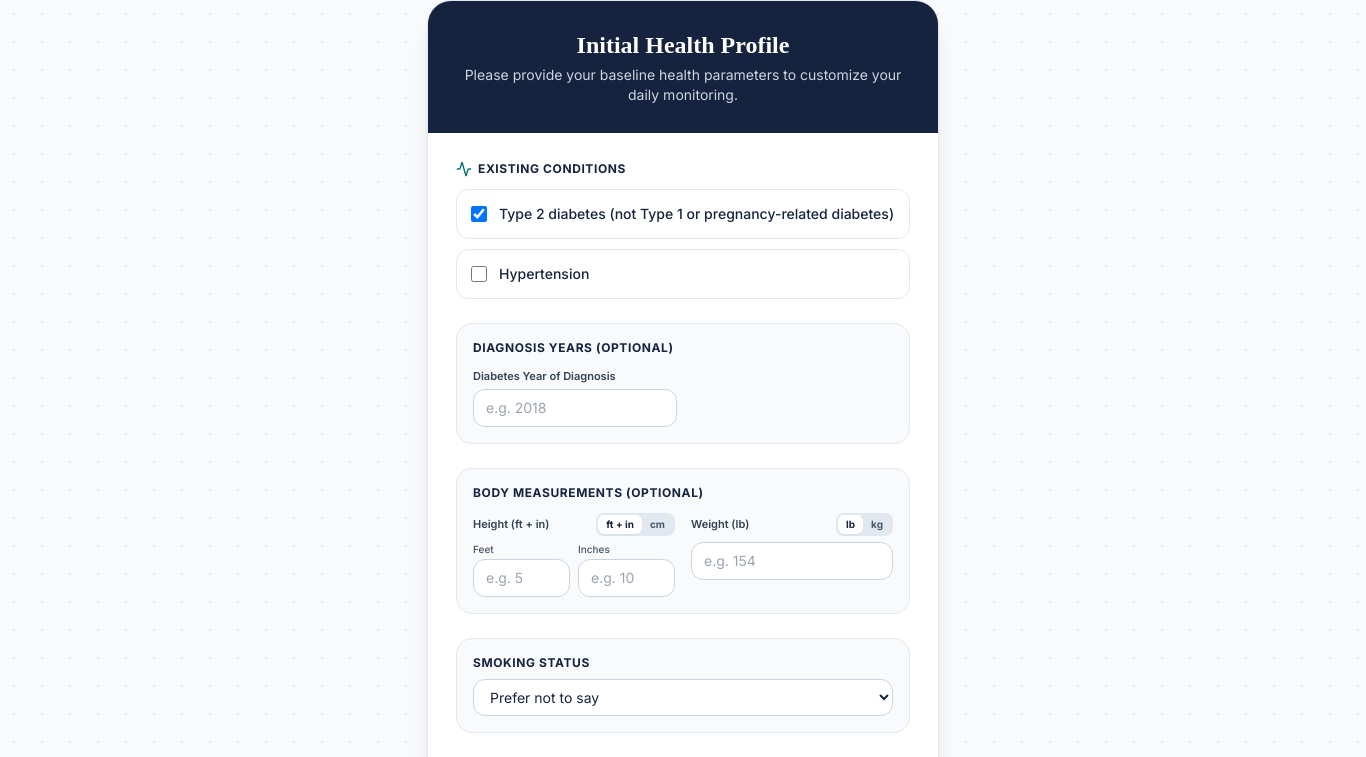
it: Health Profile Unit Conversions & Toggles (Task 1) › Component Rendering & Interactions › toggling cm to ft+in and back keeps the same height (within rounding)
// Switch to cm
Click the radio button labelled "cm" at (658, 524), box [642,514,673,534]
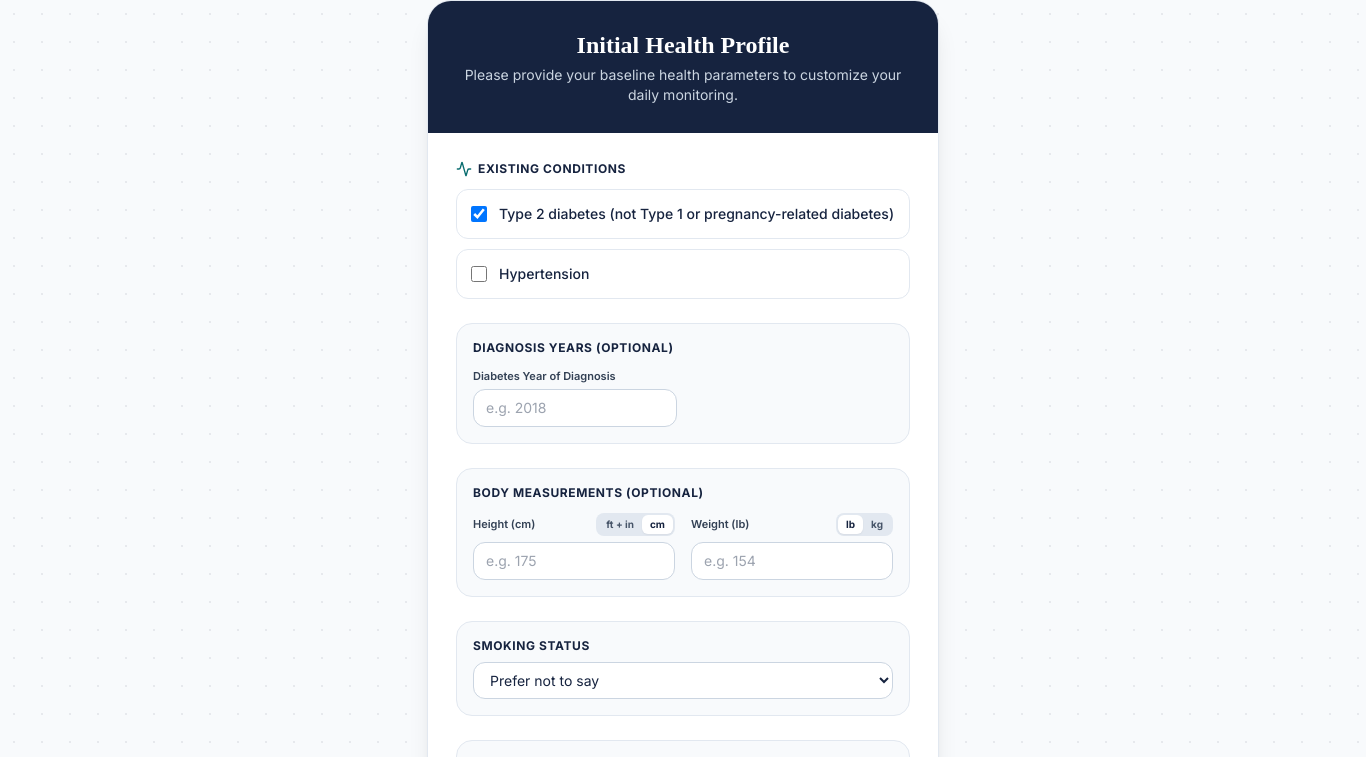
Type "177.8" into the number field labelled "Height (cm)" at (574, 560), box [473,542,675,580]
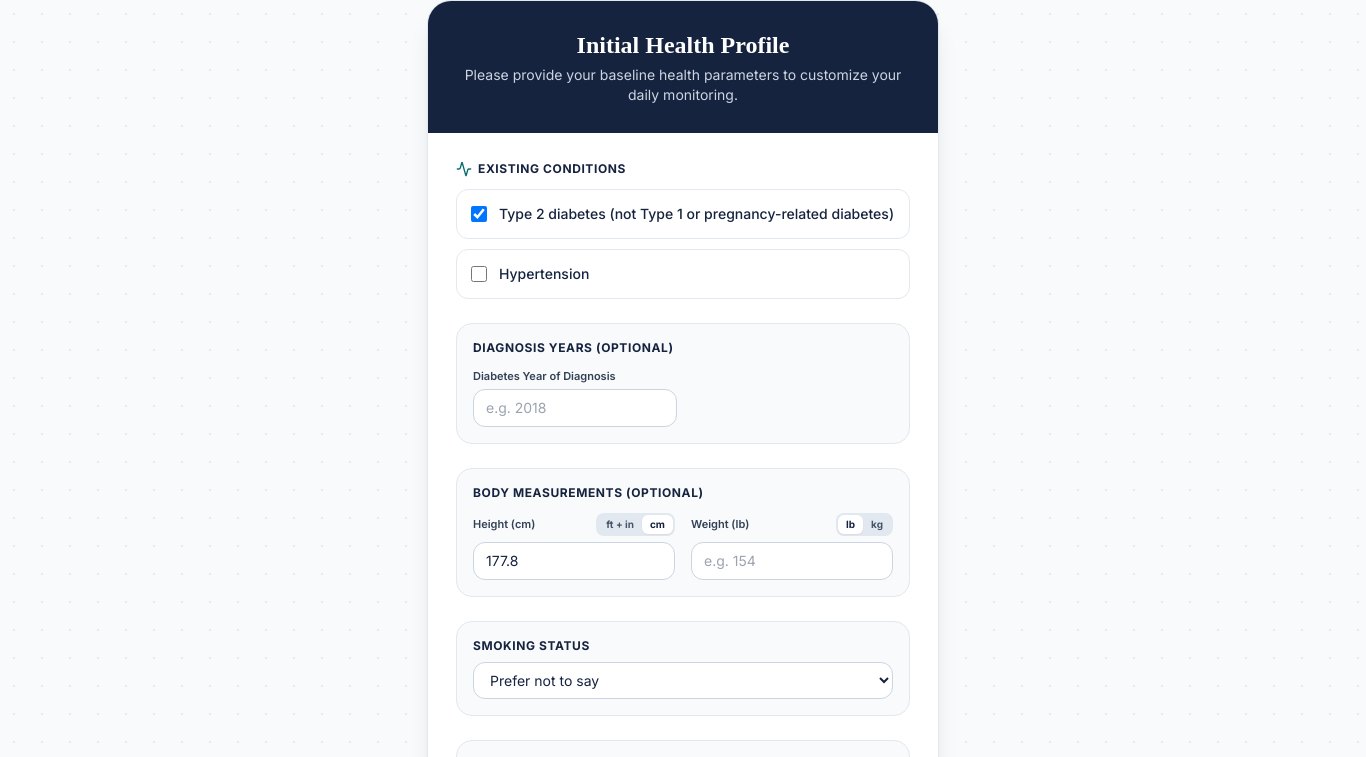
// Toggle to ft+in
Click the radio button labelled "ft + in" at (620, 524), box [598,514,642,534]
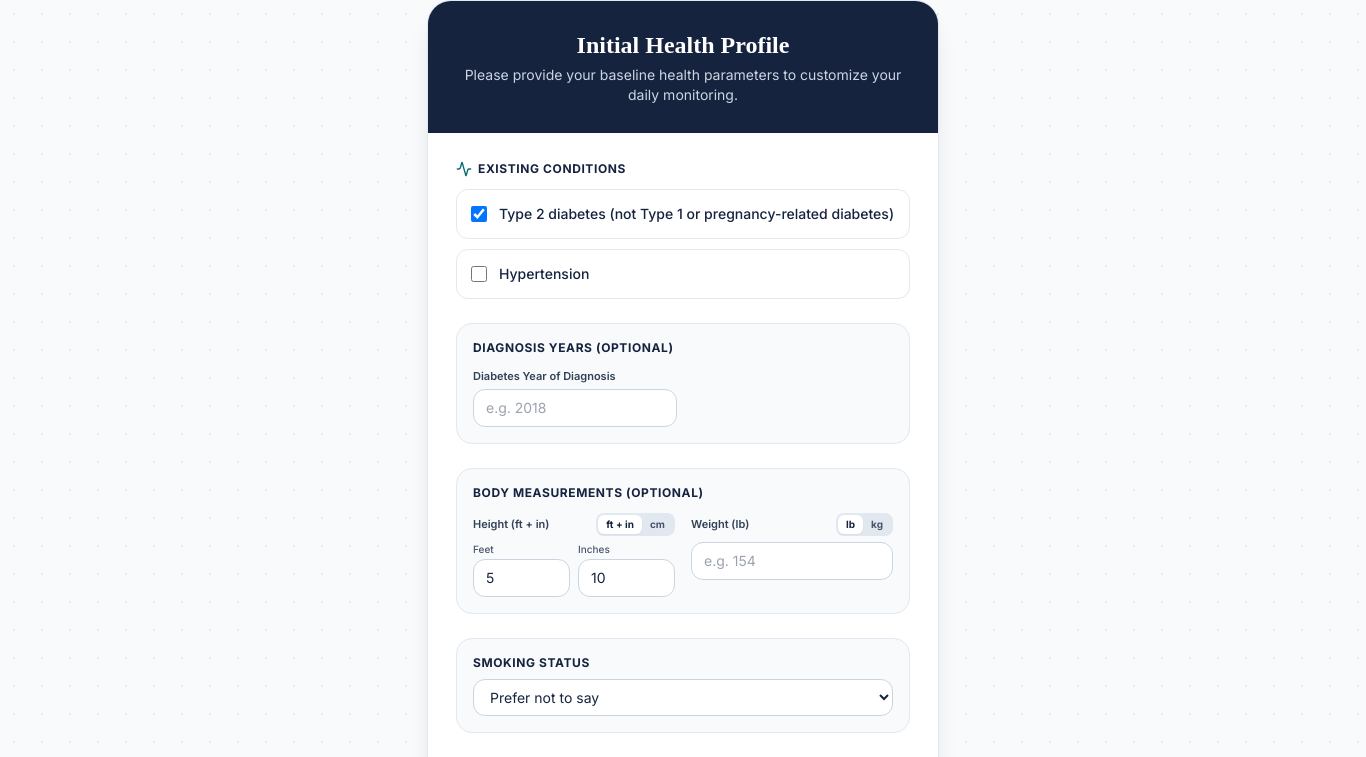
Expected: the number field named "Feet" holds "5", [473,558,570,596]
Expected: the number field labelled "Inches" holds "10", [578,558,675,596]
// Toggle back to cm
Click the radio button labelled "cm" at (658, 524), box [642,514,673,534]
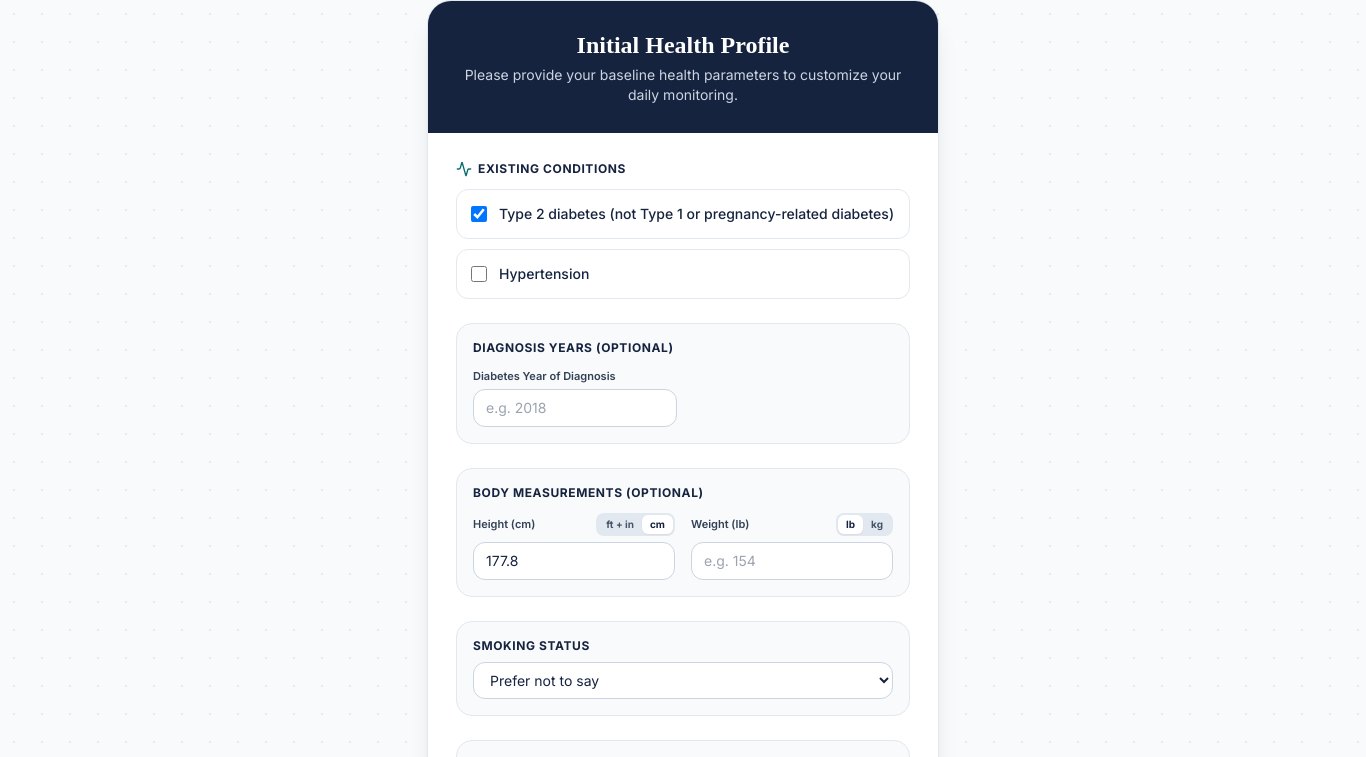
Expected: the number field labelled "Height (cm)" holds "177.8", [473,542,675,580]
